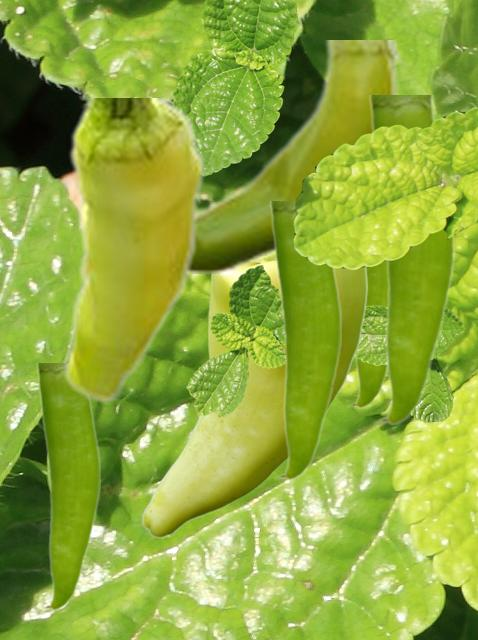green_chili: (141, 259, 367, 538), (191, 40, 401, 272), (62, 98, 205, 403), (367, 95, 453, 425), (268, 201, 340, 480), (36, 363, 99, 610), (345, 262, 386, 408)
